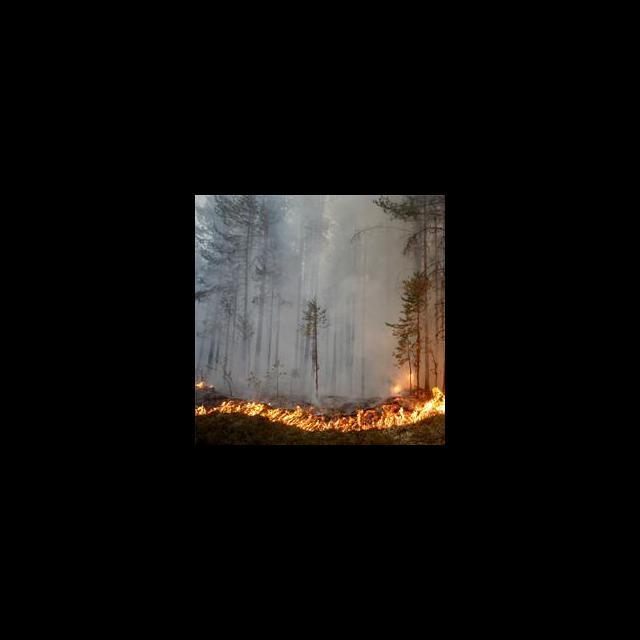Fire: (196, 363, 444, 435)
Smoke: (208, 209, 404, 360)
